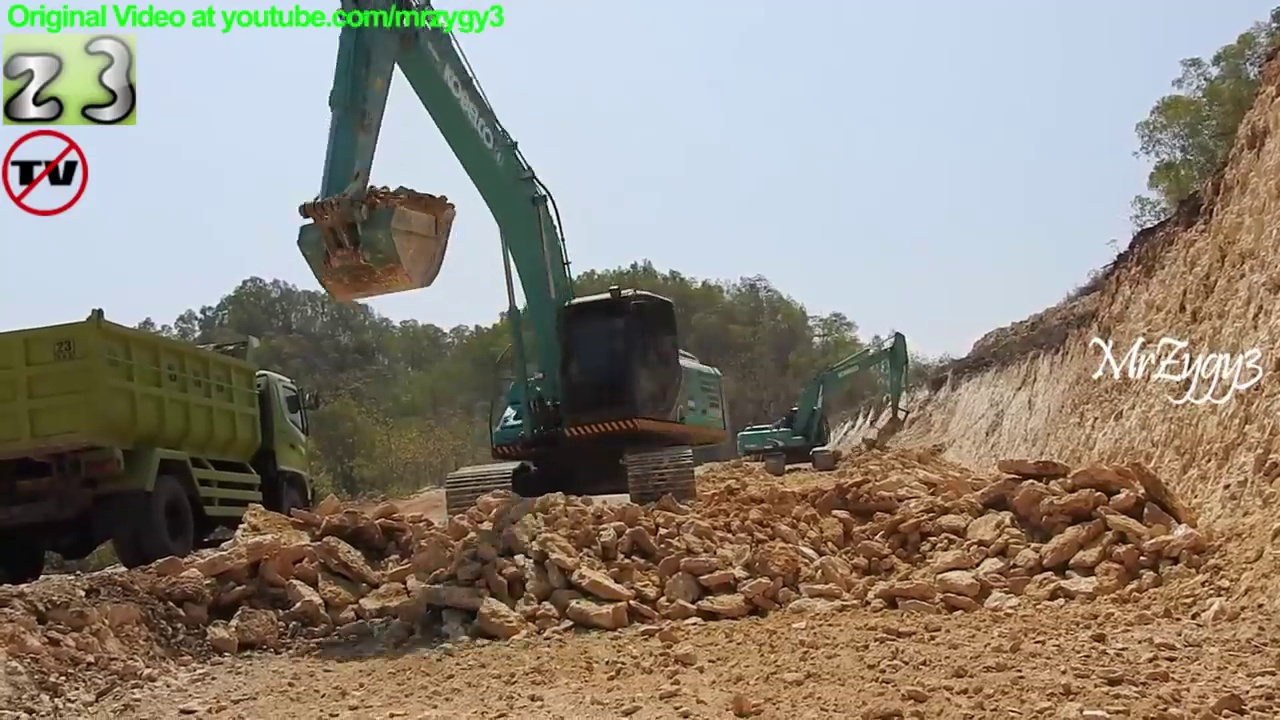excavator: (291, 1, 738, 537)
excavator breaker: (734, 327, 916, 479)
truck: (1, 303, 326, 589)
